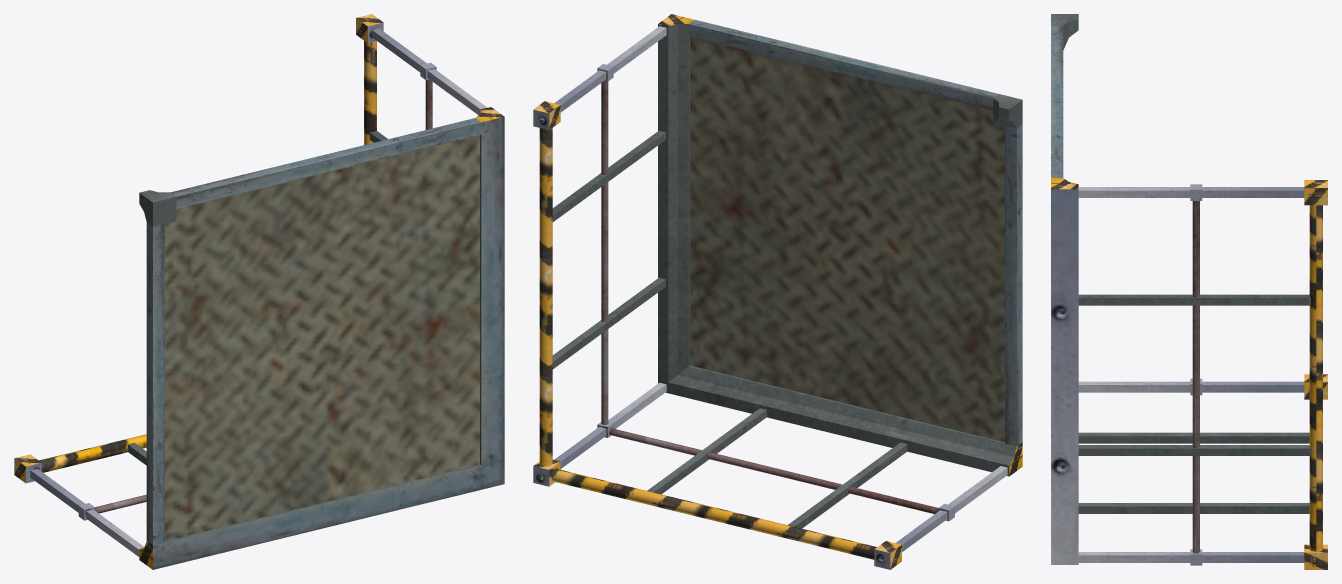
Rendered from SM_BLD_METALCATWALK_03.fbx.
3 views of the same model, side by side, from view 1: azimuth 30°, elevation 25°; view 2: azimuth 150°, elevation 25°; view 3: azimuth 270°, elevation 25° (orthographic). The views are drawn at different scales.
Visible parts, largest first — view 1: SM_BLD_METALCATWALK_03; view 2: SM_BLD_METALCATWALK_03; view 3: SM_BLD_METALCATWALK_03.
Boxes of the visible parts, x1,y1,x2,y2 form: SM_BLD_METALCATWALK_03: [14, 14, 504, 569]; SM_BLD_METALCATWALK_03: [533, 14, 1022, 569]; SM_BLD_METALCATWALK_03: [1051, 14, 1327, 569].
Bounding box in the file's own units: 1.53 × 1.52 × 1.
